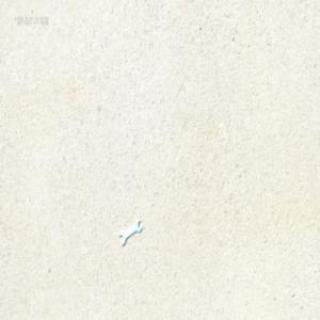Wrenchtrack_idkeyframe: (119, 216, 142, 244)
